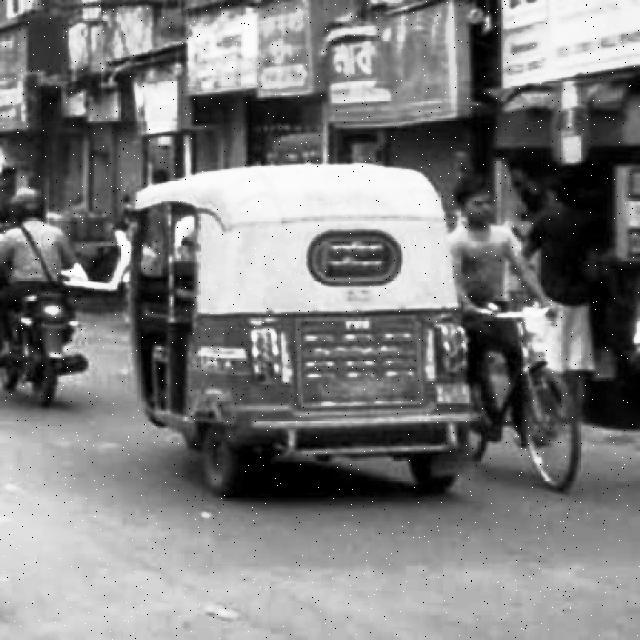Auto-Rickshaw: (114, 162, 472, 502)
